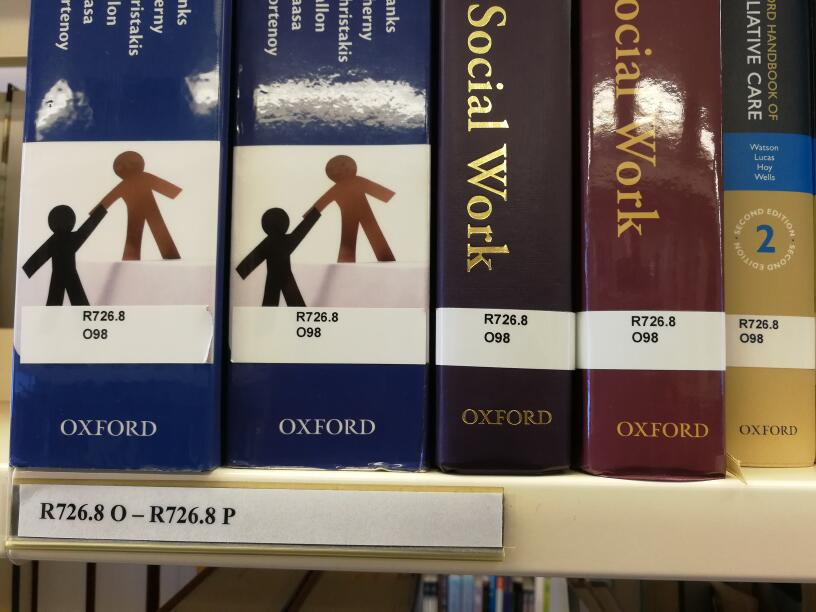booklabel: (482, 311, 529, 344), (81, 309, 126, 341), (629, 314, 676, 344), (294, 310, 338, 338), (738, 317, 779, 344)
